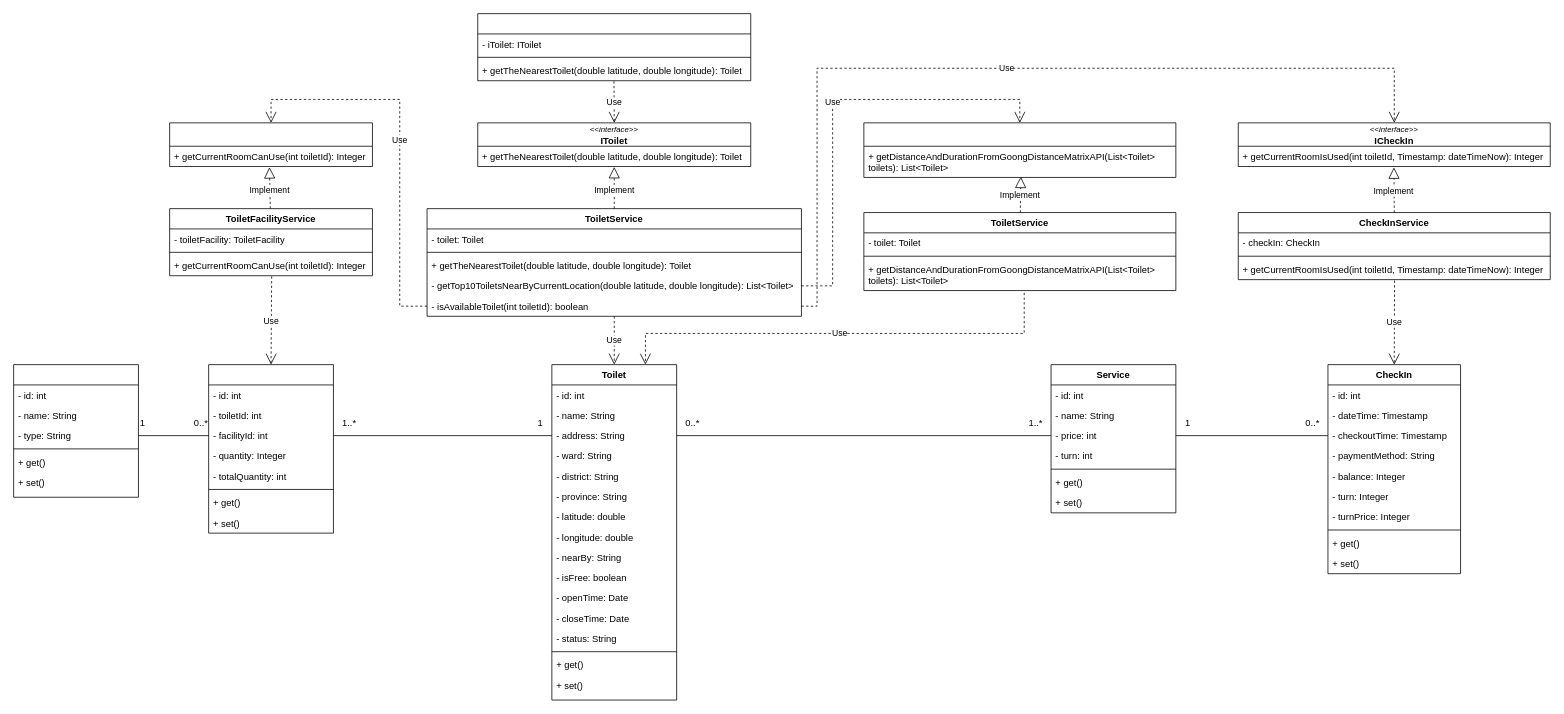
The diagram is 1564 pixels wide and 714 high, and some of its shapes have lost their labels. The shapes that lost their labels are listed below. From the top down, each one's box as (x1, y1, x2, y2) in pixels, then its label:
(477, 13, 751, 81): ToiletController
(169, 122, 372, 167): <<interface>> IToiletFacility
(863, 122, 1176, 177): <<interface>> IGoongService
(13, 364, 138, 497): Facility
(208, 364, 333, 533): ToiletFacility
